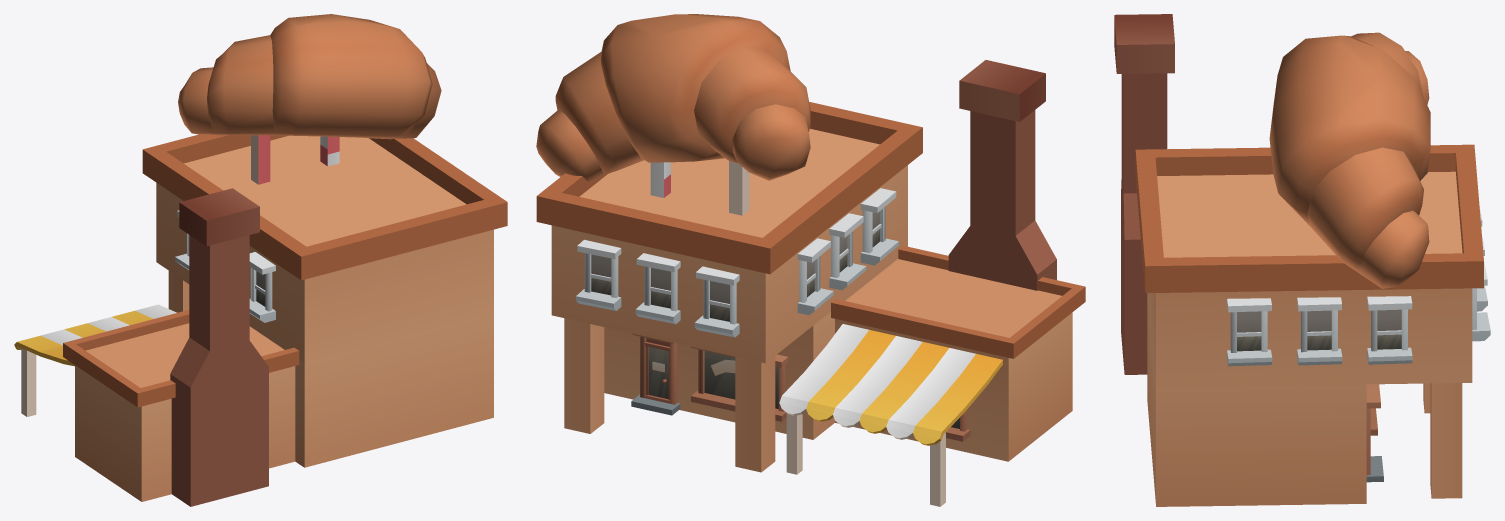
The model's file is PASTELERIA ROLO.fbx.
3 views of the same model, side by side, from view 1: azimuth 30°, elevation 25°; view 2: azimuth 150°, elevation 25°; view 3: azimuth 270°, elevation 25° (orthographic). The views are drawn at different scales.
Parts seen in each view (by area): view 1: croissant; view 2: croissant; view 3: croissant.
Boxes of the visible parts, bbox=[...] form: croissant: bbox=[14, 14, 507, 506]; croissant: bbox=[536, 14, 1085, 506]; croissant: bbox=[1114, 14, 1490, 506].
Size of the model in its own units: 2006 by 1439 by 1717.
Materials: 4 (4 with a texture image).
